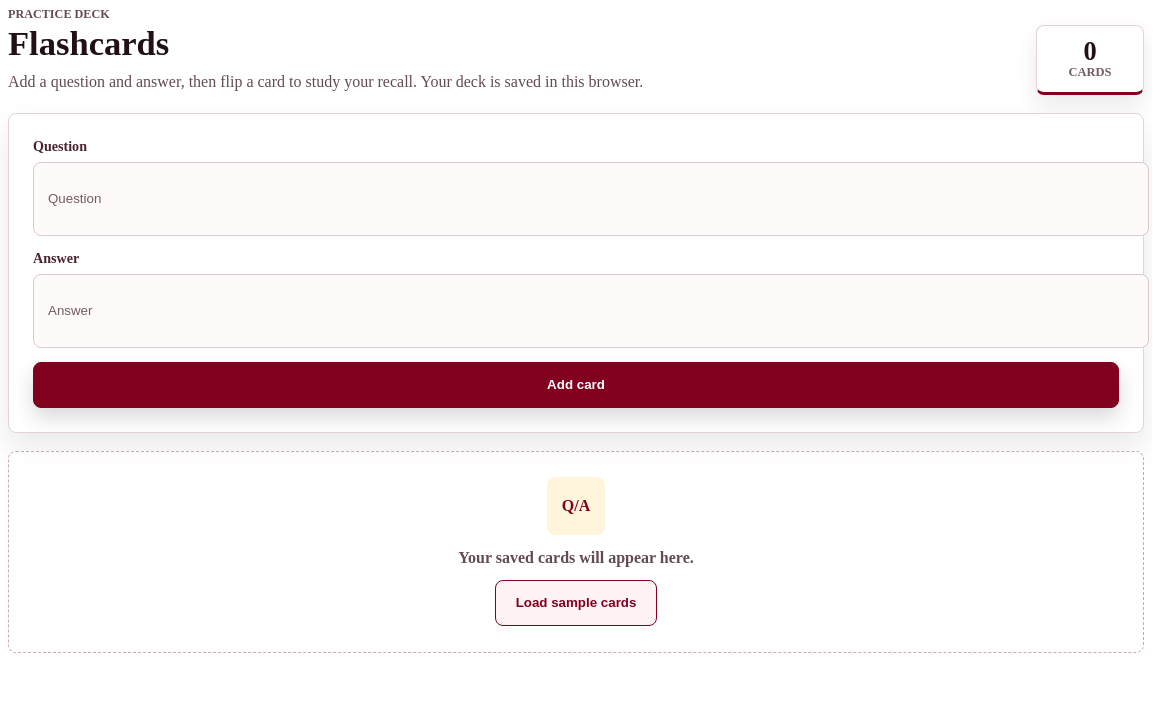
flashcard deck › trims spaces around the question and answer
This screenshot has width=1164, height=709.
Clear the field with placeholder "Question": [591, 199] box [33,162,1149,236]
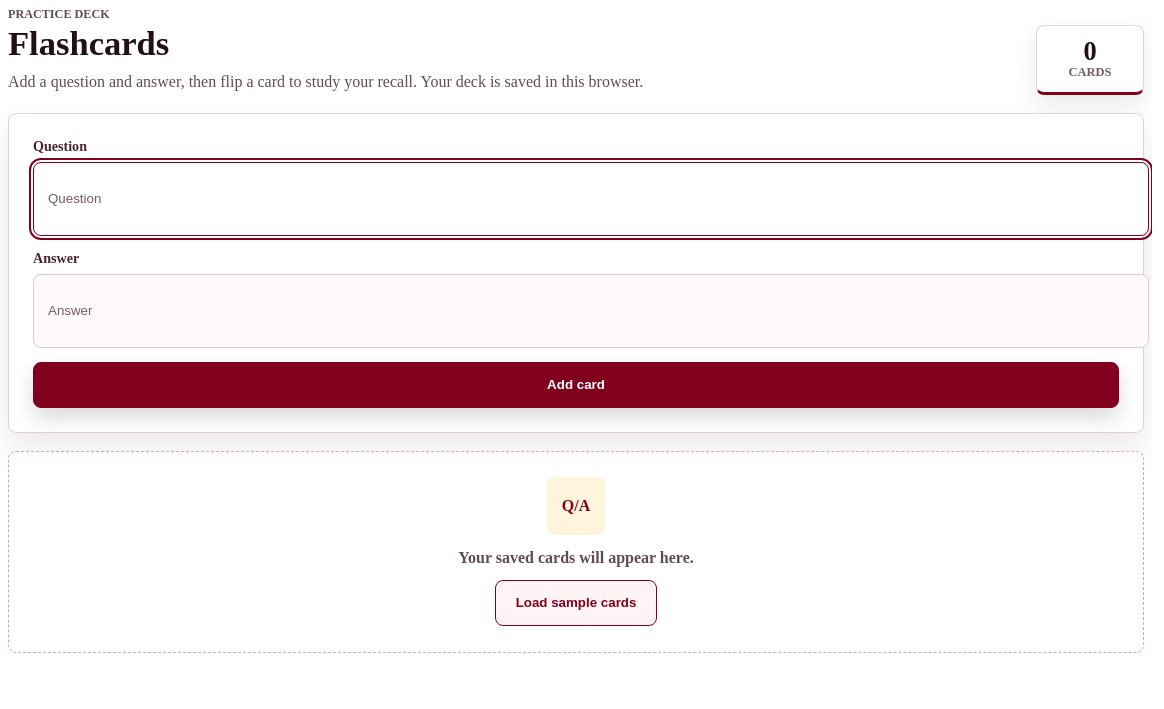
Clear the field with placeholder "Answer": [591, 311] box [33,274,1149,348]
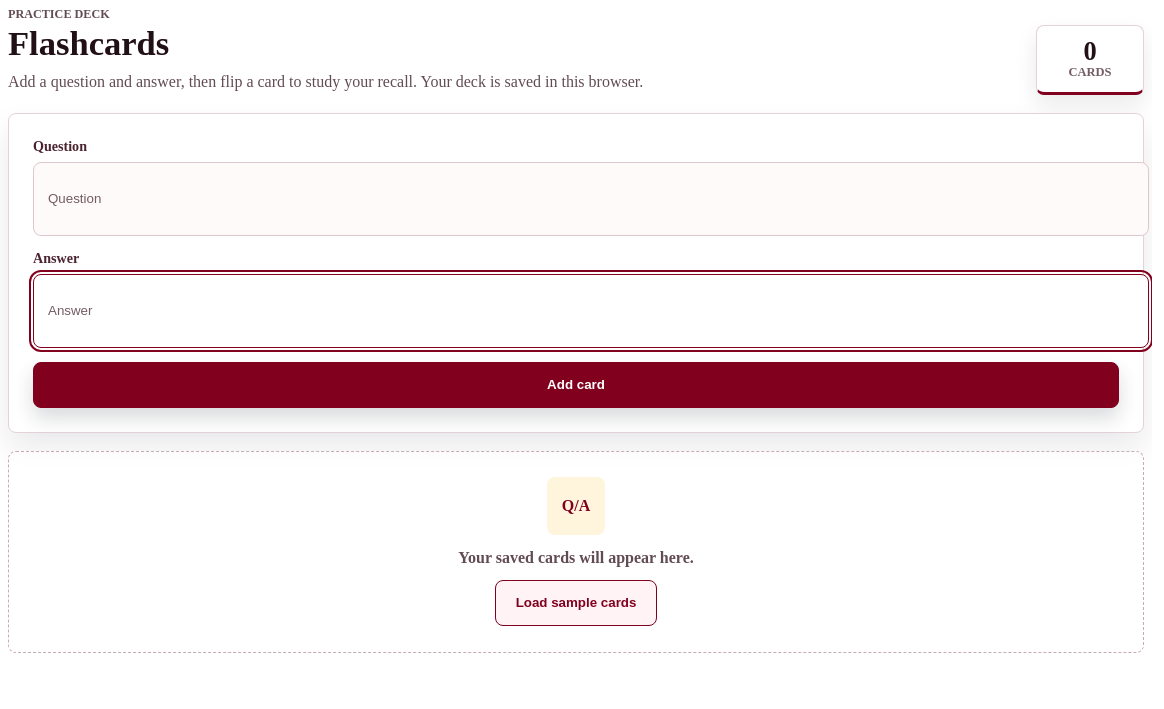
In the field with placeholder "Question": [591, 199] box [33,162,1149,236], type "   Padded question   "
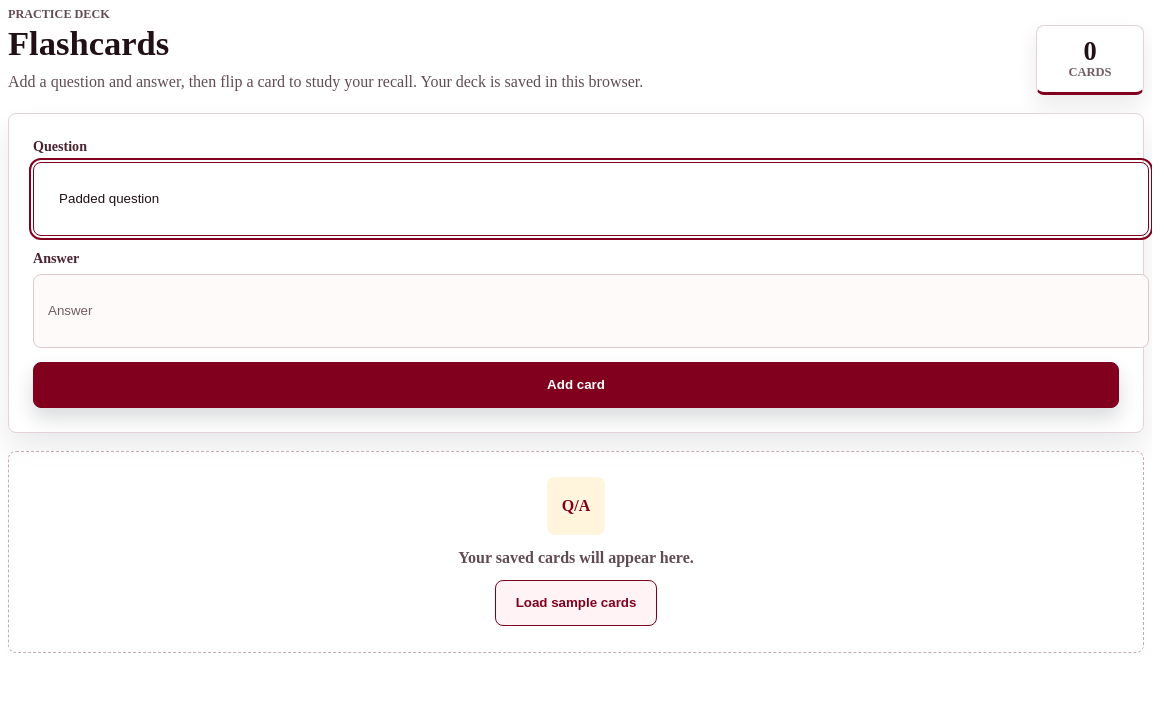
In the field with placeholder "Answer": [591, 311] box [33,274,1149,348], type "   Padded answer   "
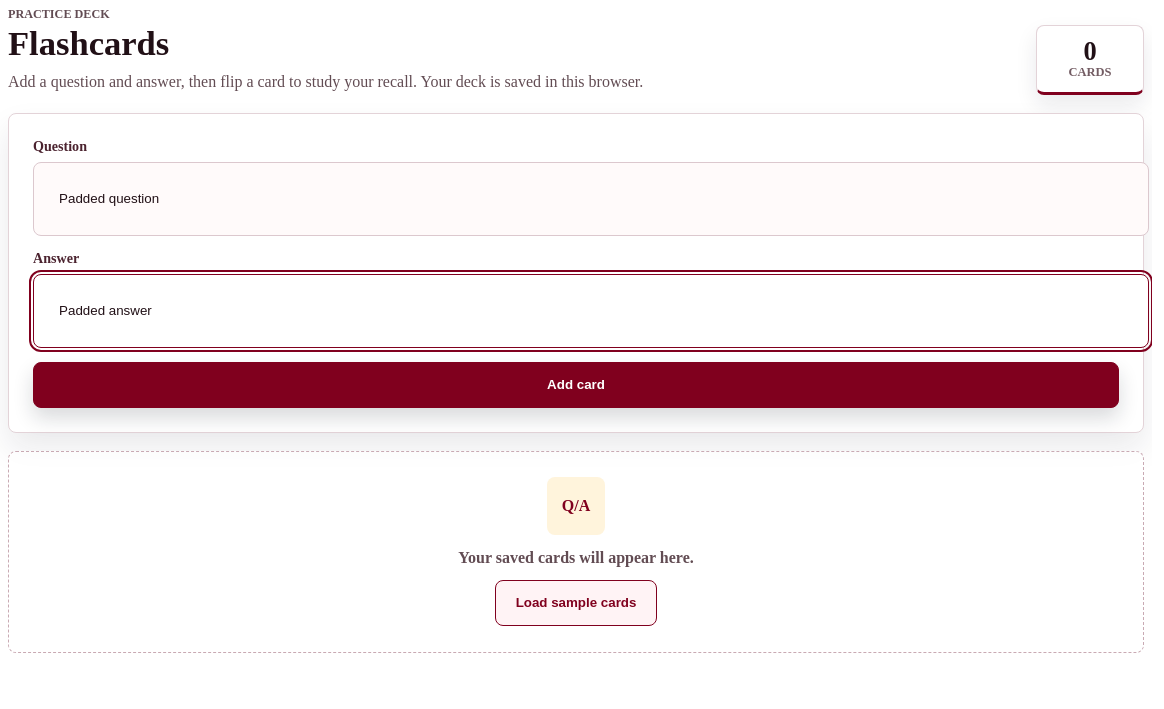
Click the button "Add card": [576, 385] box [33,362,1119,408]
(page scrolled)
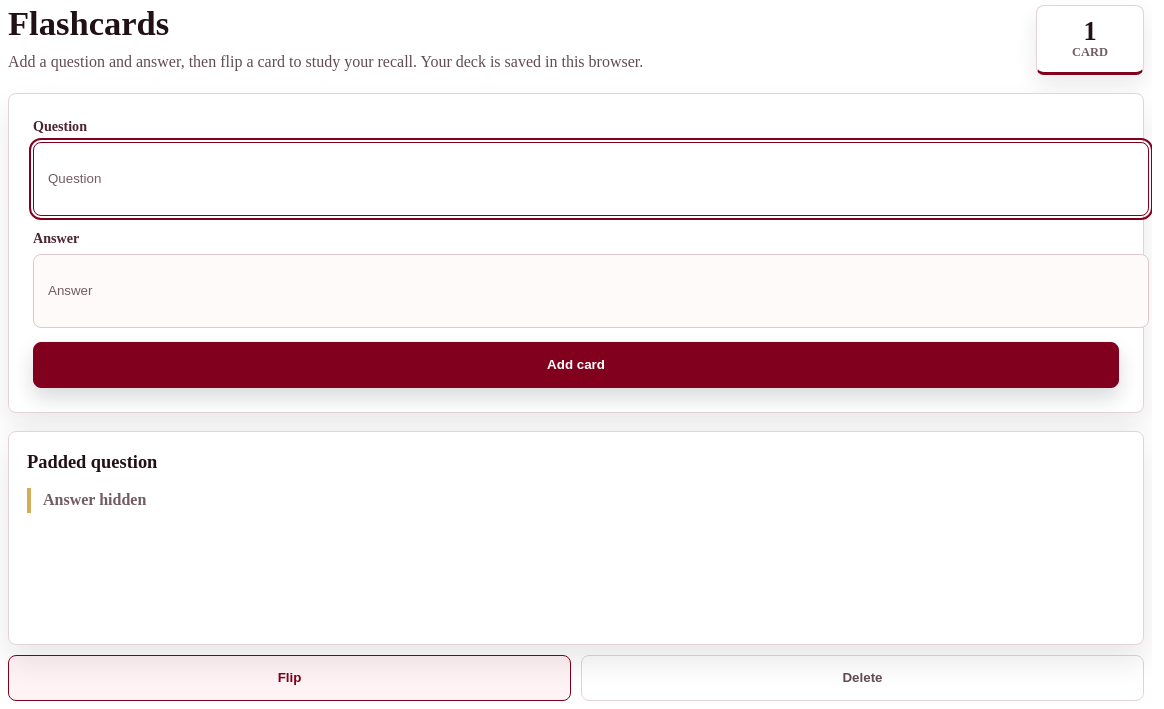
Click the button "Flip": [290, 678] box [8,655,571,701]
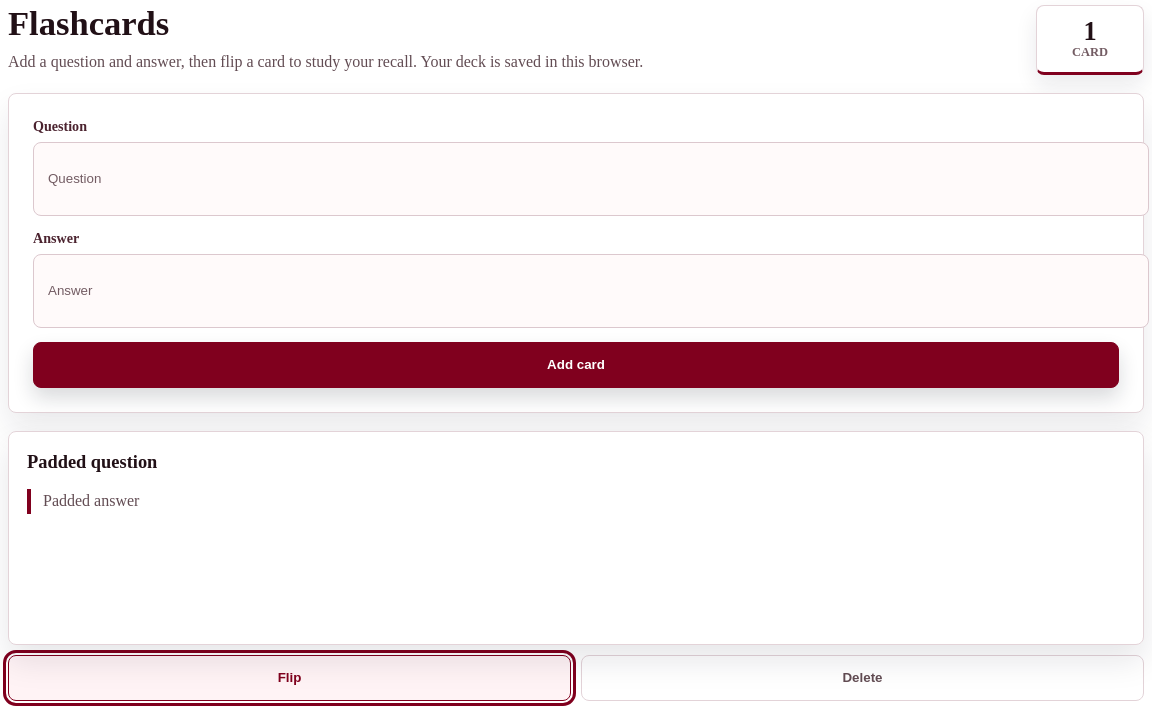
Expected: the text "Padded answer" is shown, [27,488,1125,513]
